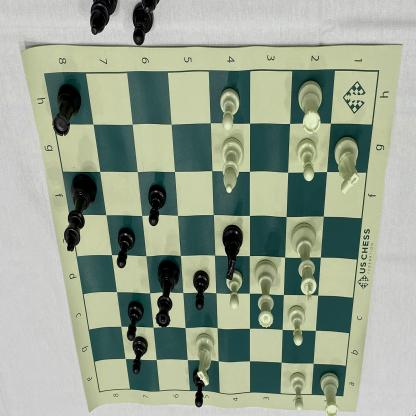black-king: (64, 173, 98, 258)
black-knight: (220, 223, 246, 280)
black-pawn: (144, 182, 169, 231), (116, 224, 137, 271), (191, 267, 212, 314), (124, 301, 146, 342), (131, 335, 150, 376), (190, 368, 209, 408)
black-queen: (152, 258, 182, 332)
black-rook: (51, 81, 85, 142)
white-bishop: (220, 136, 245, 194)
white-king: (289, 221, 321, 304)
white-knight: (331, 135, 363, 195), (193, 329, 216, 388)
white-pawn: (217, 85, 243, 133), (295, 136, 320, 183), (286, 370, 308, 414), (286, 304, 308, 348), (224, 268, 245, 312)
white-queen: (252, 258, 278, 332)
white-rook: (296, 78, 323, 135), (318, 370, 343, 416)
